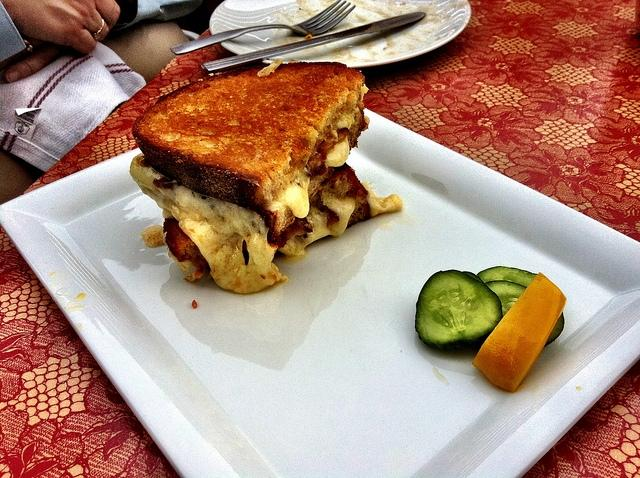cucumber: (415, 269, 502, 353), (484, 280, 564, 347), (477, 266, 538, 287)
